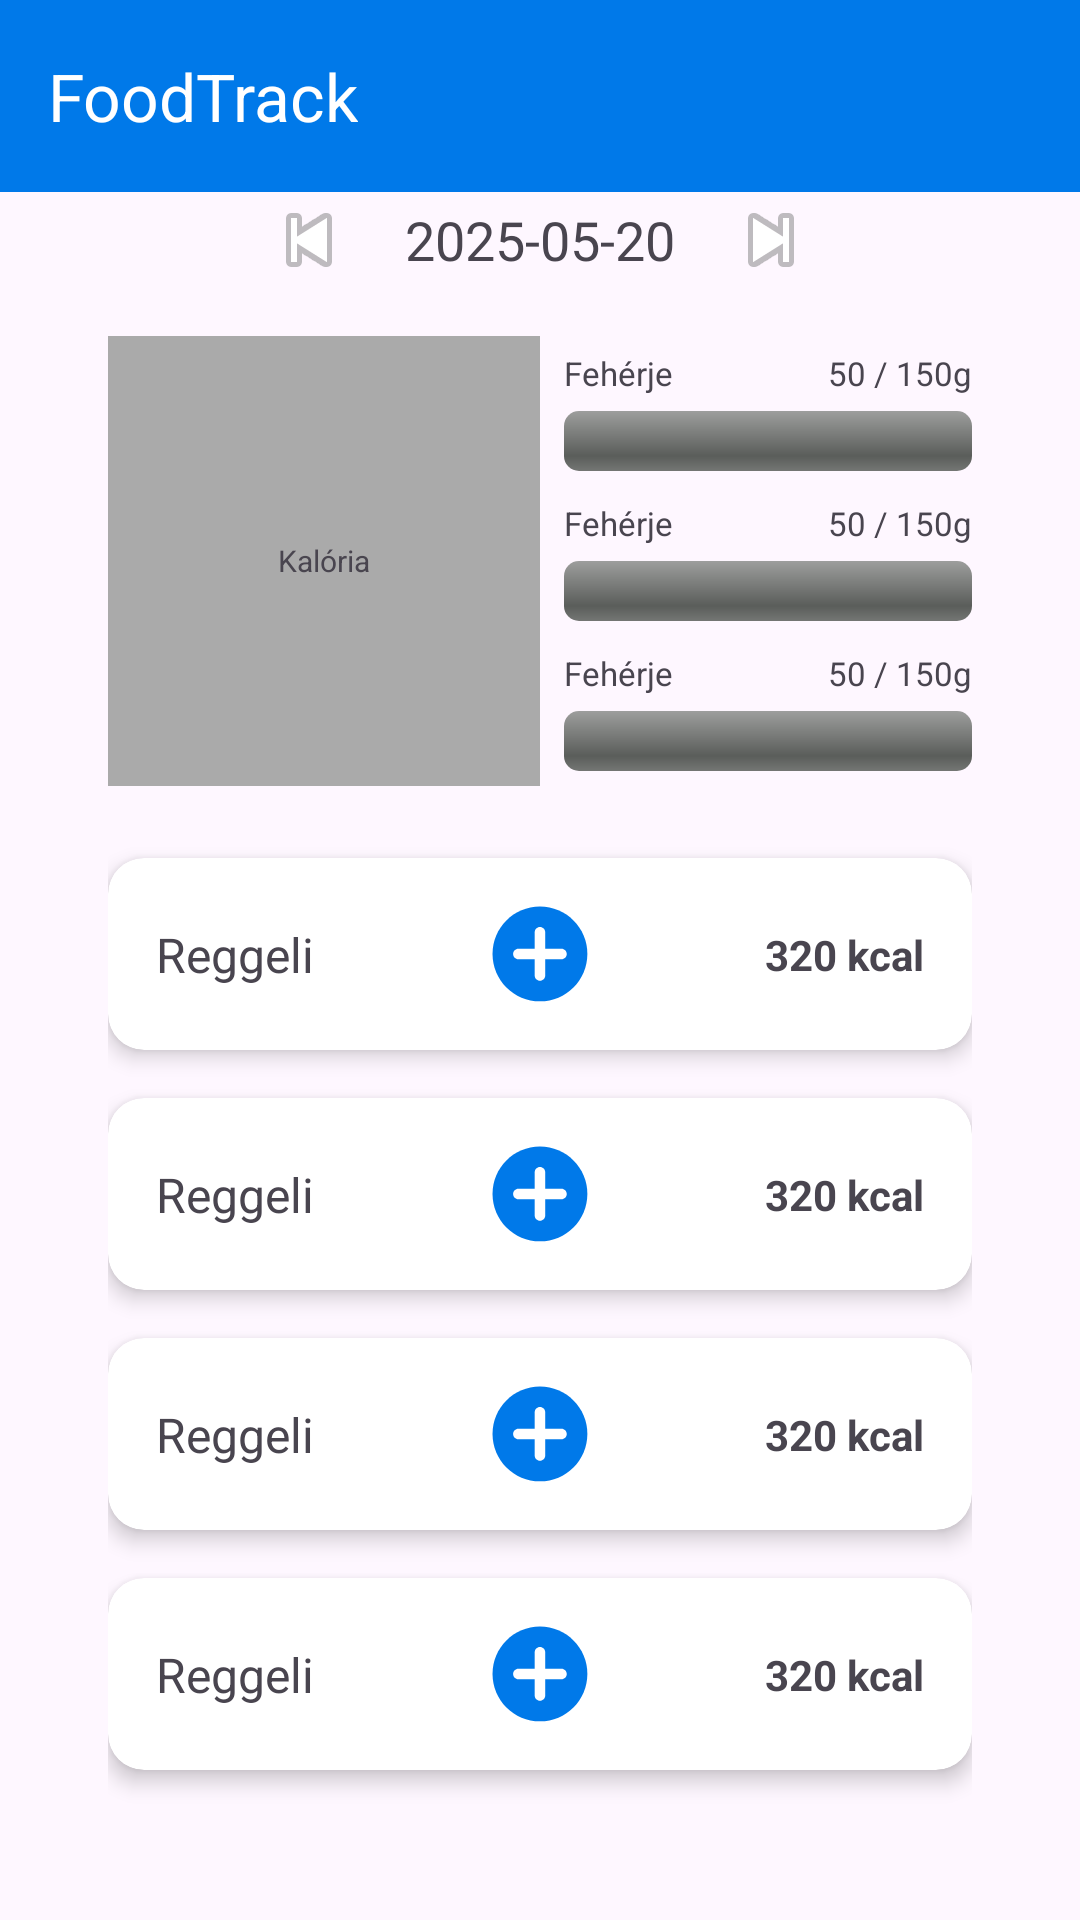

Icons on this 1080px×1920px Android screen, each with its box as region(x1, y1, x2, y2):
add: region(492, 906, 588, 1002), region(492, 1146, 588, 1242), region(492, 1386, 588, 1482), region(492, 1626, 588, 1722)
Előző nap: region(286, 213, 332, 267)
Következő nap: region(748, 213, 794, 267)
